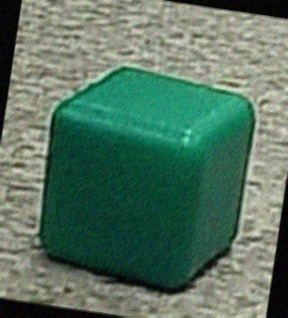green_cube: (26, 48, 261, 298)
